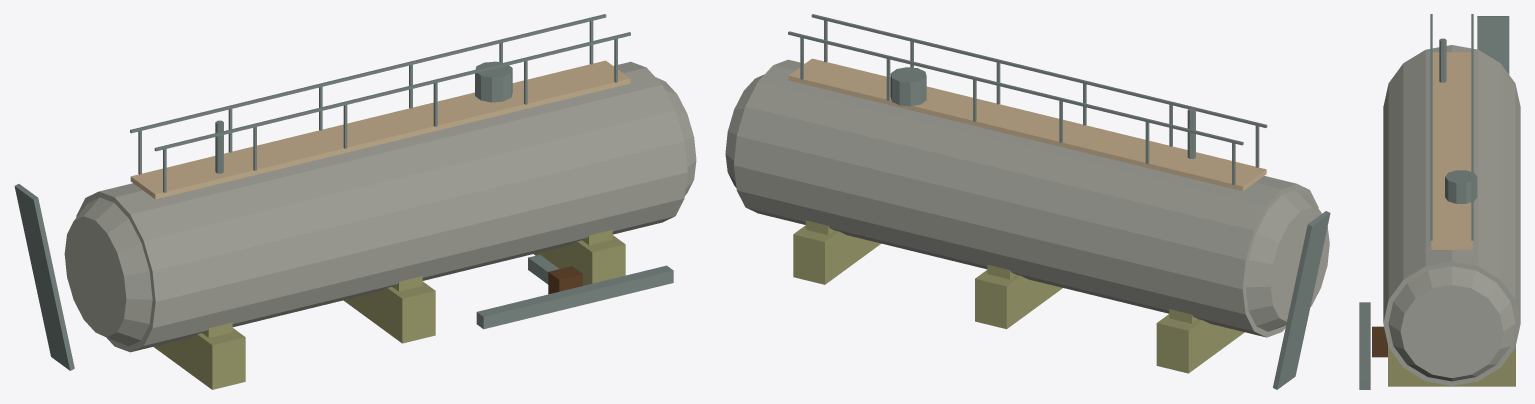
Rendered from SM_TanqueCombustible_v0_LOD0.fbx.
The picture shows the model from 3 angles, left to right: view 1: azimuth 30°, elevation 25°; view 2: azimuth 150°, elevation 25°; view 3: azimuth 270°, elevation 25°; orthographic projection. The views are drawn at different scales.
Parts seen in each view (by area): view 1: SM_tanque_combustible_v0_LOD0; view 2: SM_tanque_combustible_v0_LOD0; view 3: SM_tanque_combustible_v0_LOD0.
Part boxes in pixels (bbox=[...]): SM_tanque_combustible_v0_LOD0: bbox=[14, 14, 696, 389]; SM_tanque_combustible_v0_LOD0: bbox=[725, 14, 1330, 389]; SM_tanque_combustible_v0_LOD0: bbox=[1359, 14, 1520, 389].
Bounding box in the file's own units: 12.98 × 4.7 × 3.53.
